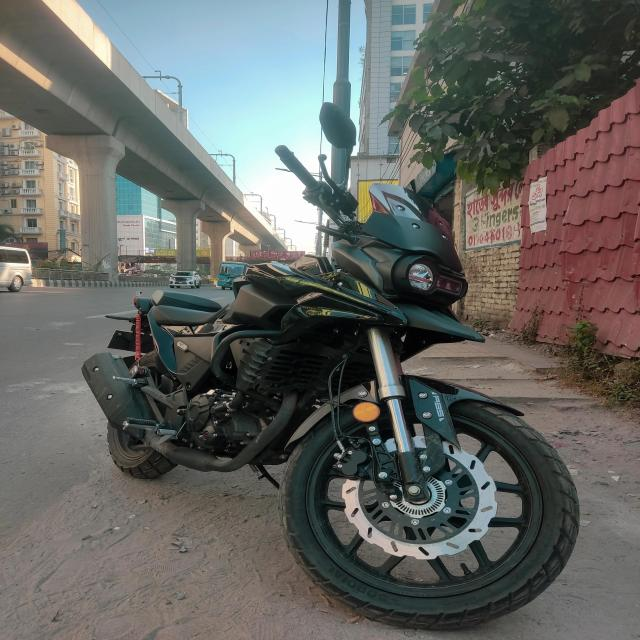bike: (85, 165, 593, 619)
